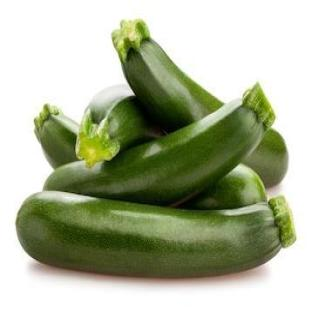Zucchini: (45, 86, 274, 203), (16, 192, 295, 277), (112, 20, 223, 130), (76, 86, 162, 166), (184, 165, 266, 208), (34, 105, 78, 167), (244, 129, 288, 187)
